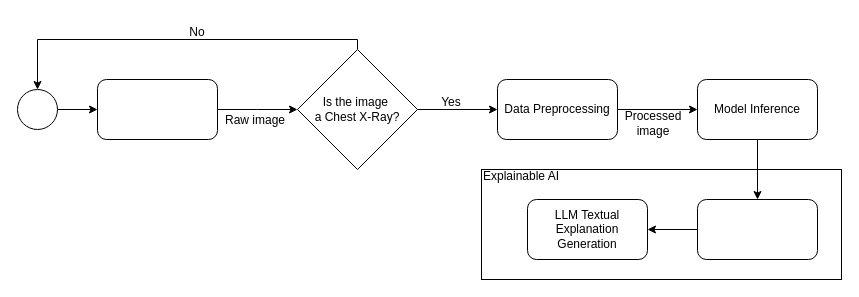
Some shapes in this 859 by 297 pixel diagram are drawn without their labels. The centre of each missing label's shape, as x and y in pixels:
"Heatmap Generation and Overlay" belongs at point 757,229.
"Input: Chest X-Ray Image" belongs at point 157,109.
